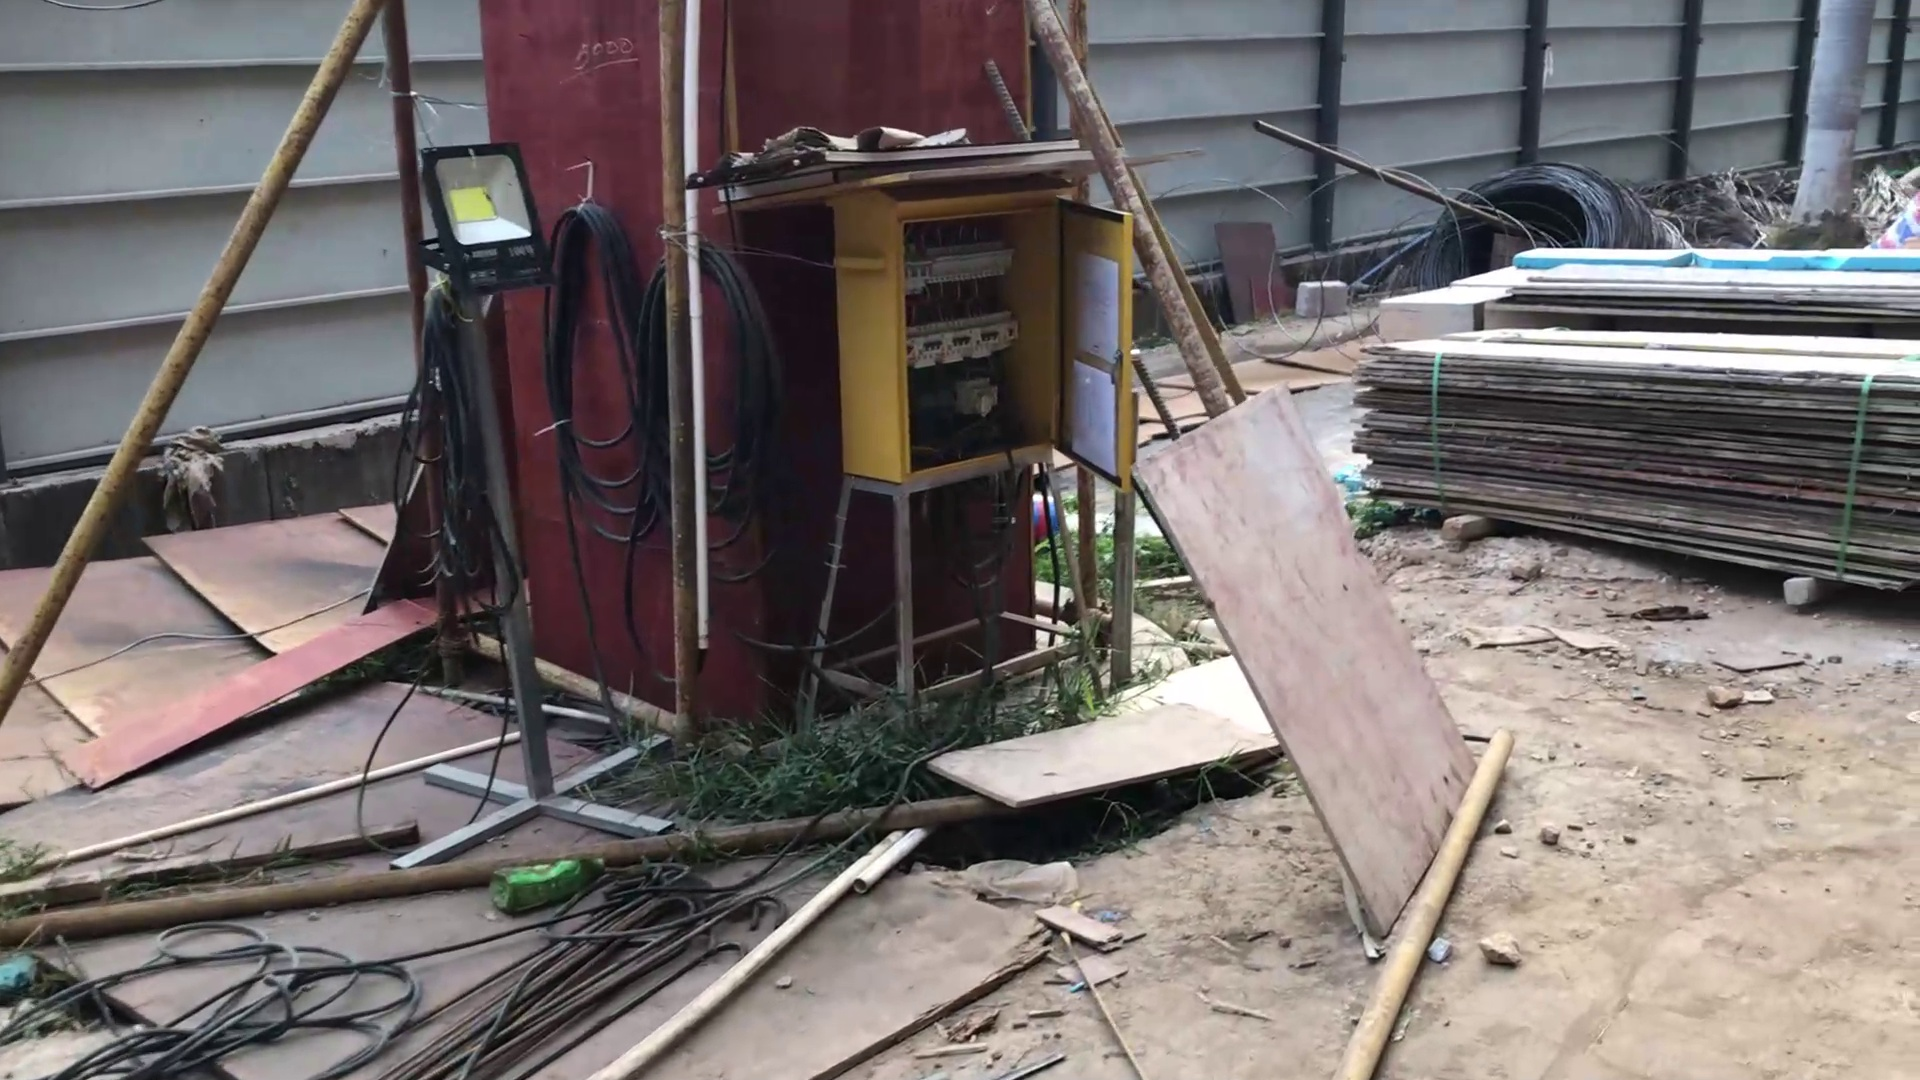board: (1341, 224, 1920, 593)
ebox: (771, 128, 1124, 745)
